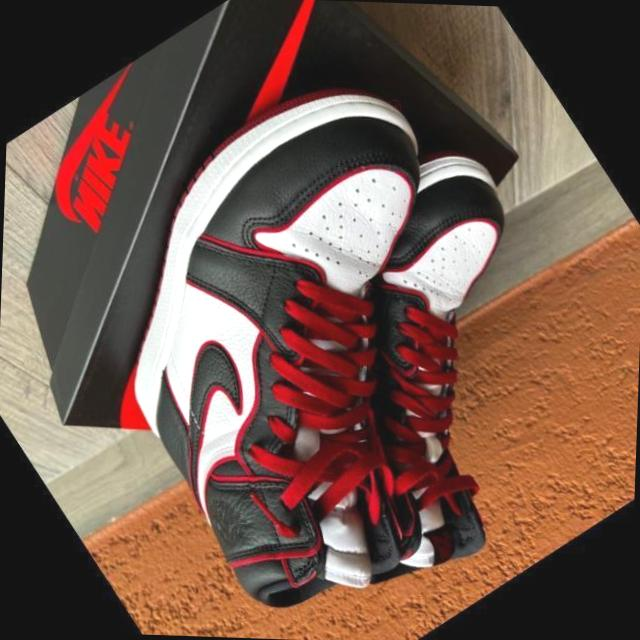nike_original_jordan: (14, 31, 628, 640), (191, 118, 640, 607)
